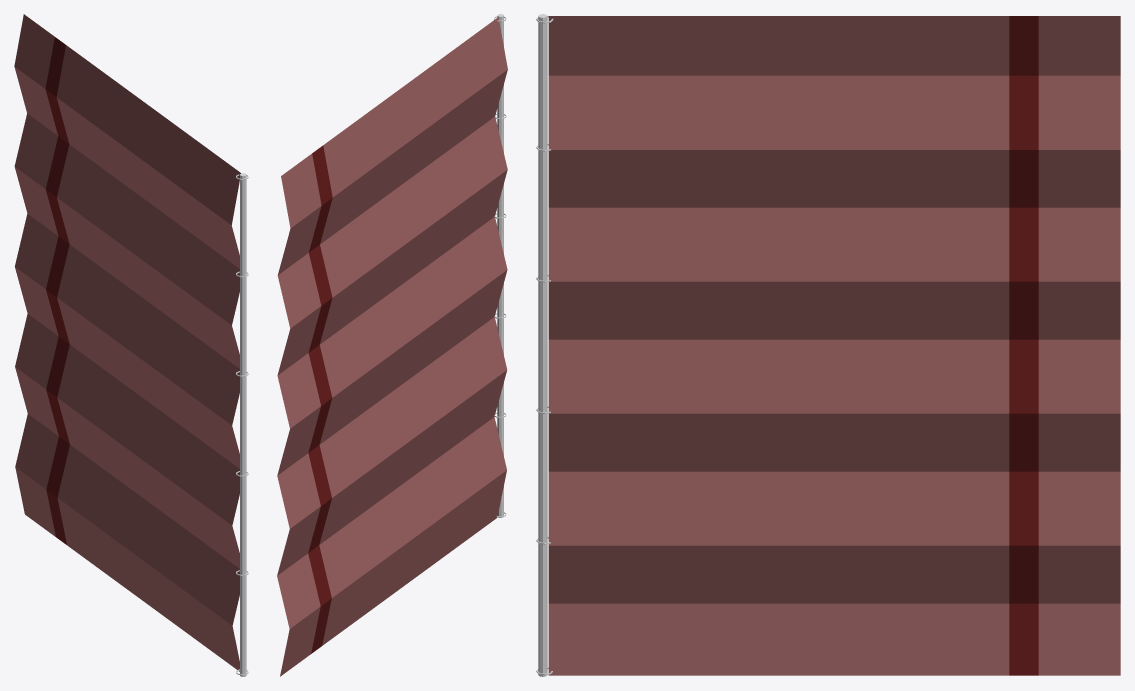
Rendered from Ю-55-CLOSED.fbx.
3 renders of one model, left to right at view 1: azimuth 30°, elevation 25°; view 2: azimuth 150°, elevation 25°; view 3: azimuth 270°, elevation 25°, orthographic. The views are drawn at different scales.
Visible parts, largest first — view 1: Circle; view 2: Circle; view 3: Circle.
Boxes of the visible parts, x1,y1,x2,y2 form: Circle: (14, 14, 248, 676); Circle: (277, 14, 507, 676); Circle: (536, 14, 1120, 676).
Size of the model in its own units: 11.17 by 360 by 289.
